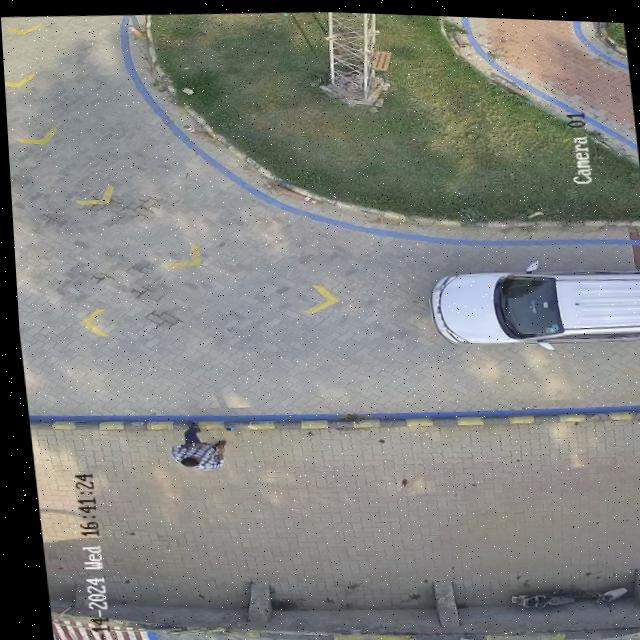car: (430, 267, 640, 340)
